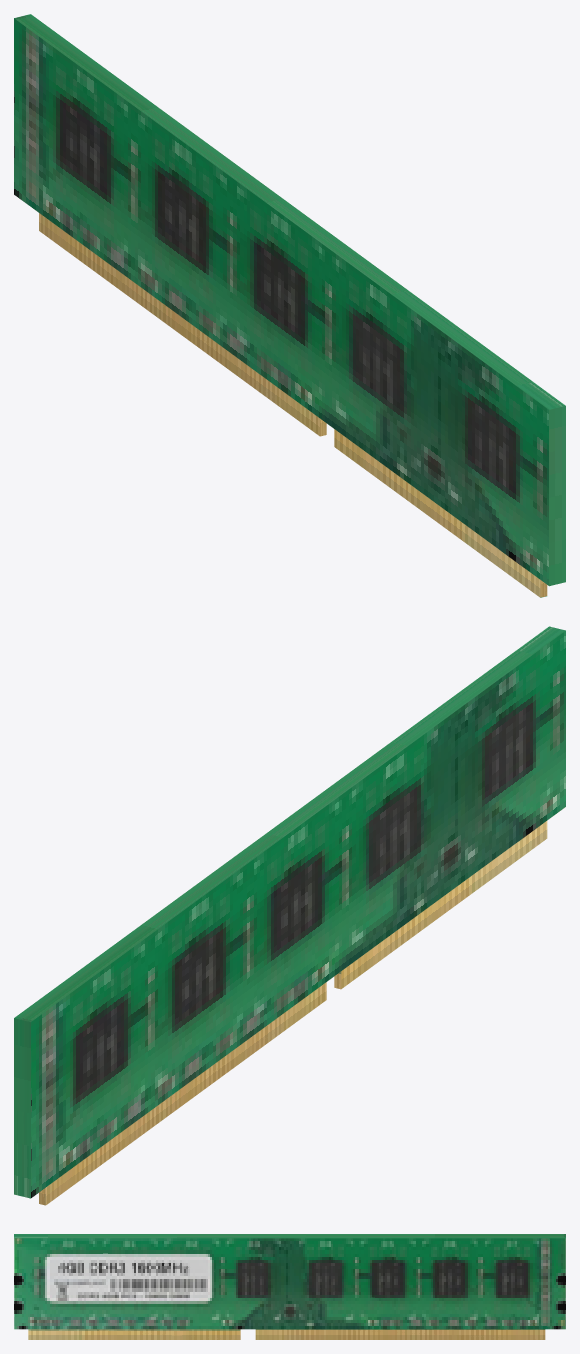
Rendered from DDR3.glb.
3 renders of one model, top to bottom at view 1: azimuth 30°, elevation 25°; view 2: azimuth 150°, elevation 25°; view 3: azimuth 270°, elevation 25°, orthographic. The views are drawn at different scales.
Visible parts, largest first — view 1: Object_2; view 2: Object_2; view 3: Object_2.
Part boxes in pixels (x1=…): Object_2: x1=14, y1=14, x2=565, y2=597; Object_2: x1=14, y1=626, x2=565, y2=1205; Object_2: x1=14, y1=1234, x2=565, y2=1339.
Size of the model in its own units: 0.2 by 2.26 by 11.
1 material, 1 textured.
